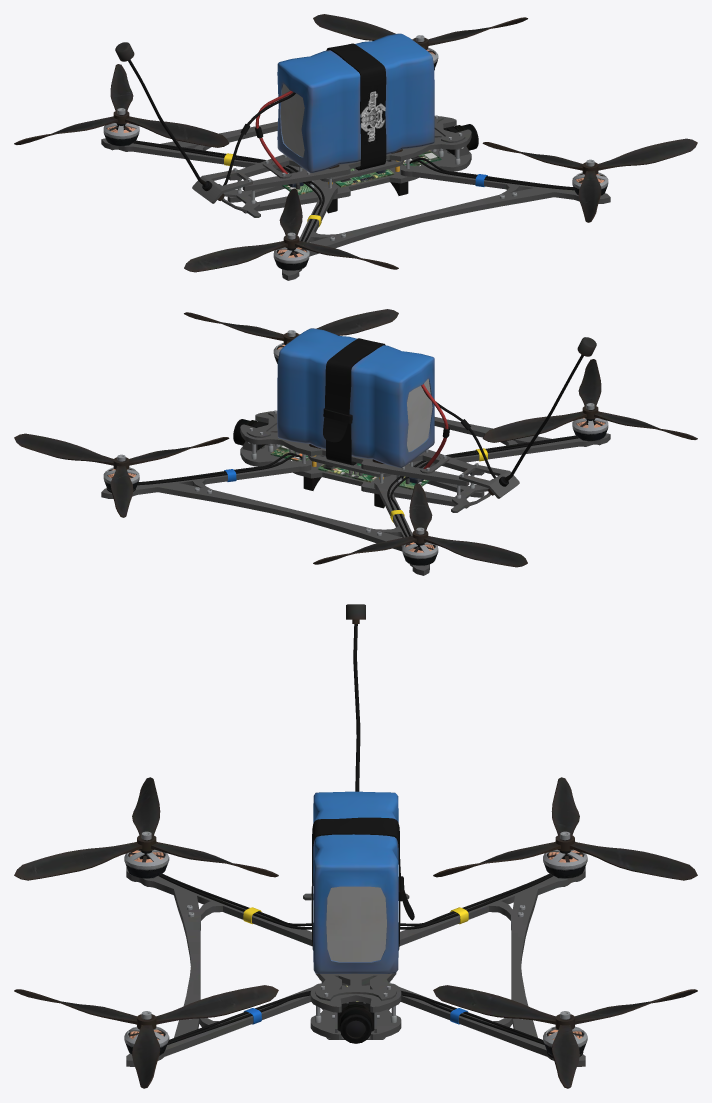
Rendered from fpv.glb.
3 renders of one model, top to bottom at view 1: azimuth 30°, elevation 25°; view 2: azimuth 150°, elevation 25°; view 3: azimuth 270°, elevation 25°, orthographic. The views are drawn at different scales.
Parts seen in each view (by area): view 1: BezierCurve.004__0.001; view 2: BezierCurve.004__0.001; view 3: BezierCurve.004__0.001.
Boxes of the visible parts, x1,y1,x2,y2 form: BezierCurve.004__0.001: [14, 14, 697, 280]; BezierCurve.004__0.001: [14, 309, 697, 575]; BezierCurve.004__0.001: [14, 604, 697, 1088].
Size of the model in its own units: 9.26 by 3.56 by 8.68.
Materials: 1 (1 with a texture image).
